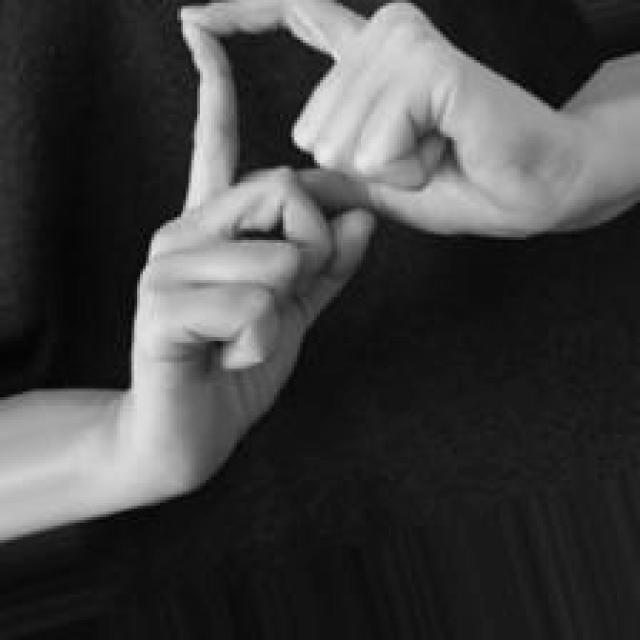D: (128, 0, 588, 511)
